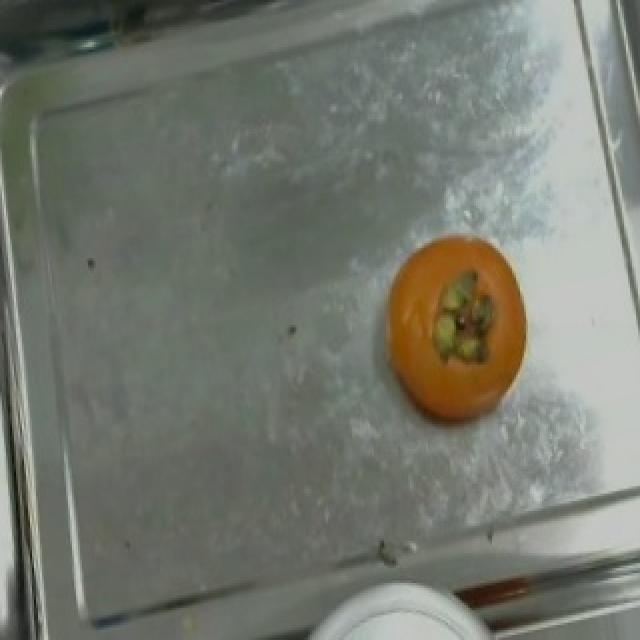Fruit: (360, 213, 548, 444), (298, 598, 514, 640)
